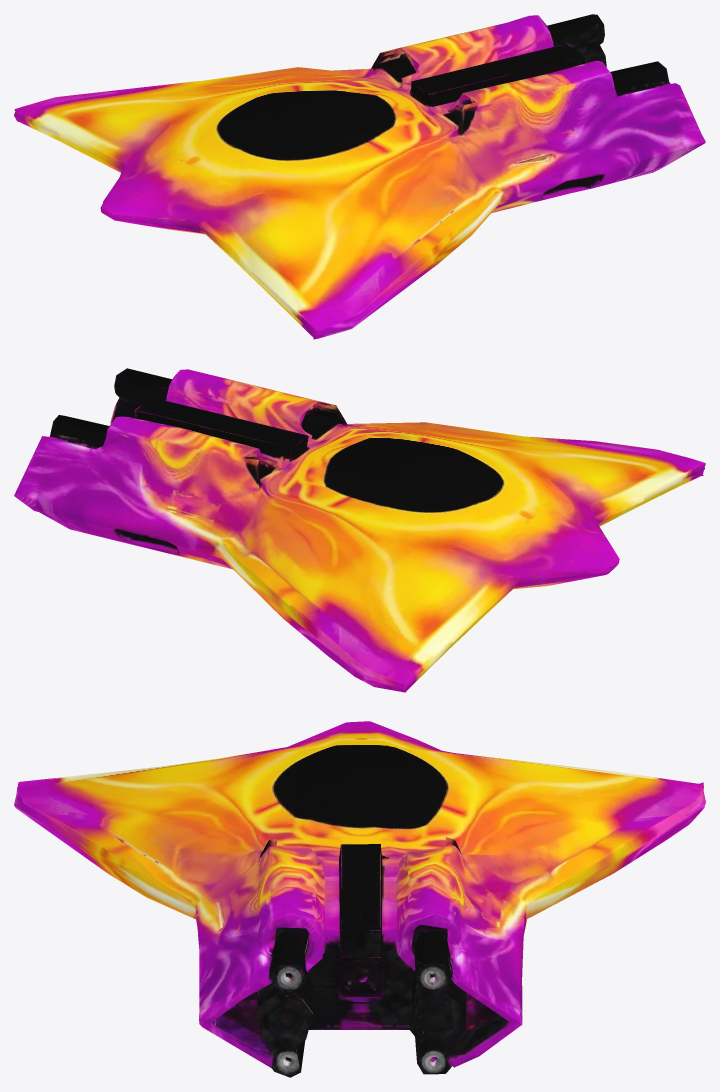
The model's file is ship14.glb.
3 views of the same model, one above another, from view 1: azimuth 30°, elevation 25°; view 2: azimuth 150°, elevation 25°; view 3: azimuth 270°, elevation 25° (orthographic). The views are drawn at different scales.
Parts seen in each view (by area): view 1: Mesh0; view 2: Mesh0; view 3: Mesh0.
Part boxes in pixels (x1,y1,x2,y2): Mesh0: (14, 14, 705, 339); Mesh0: (14, 368, 705, 692); Mesh0: (14, 721, 705, 1077).
Bounding box in the file's own units: 1.91 × 0.5857 × 1.9.
1 material, 1 textured.
